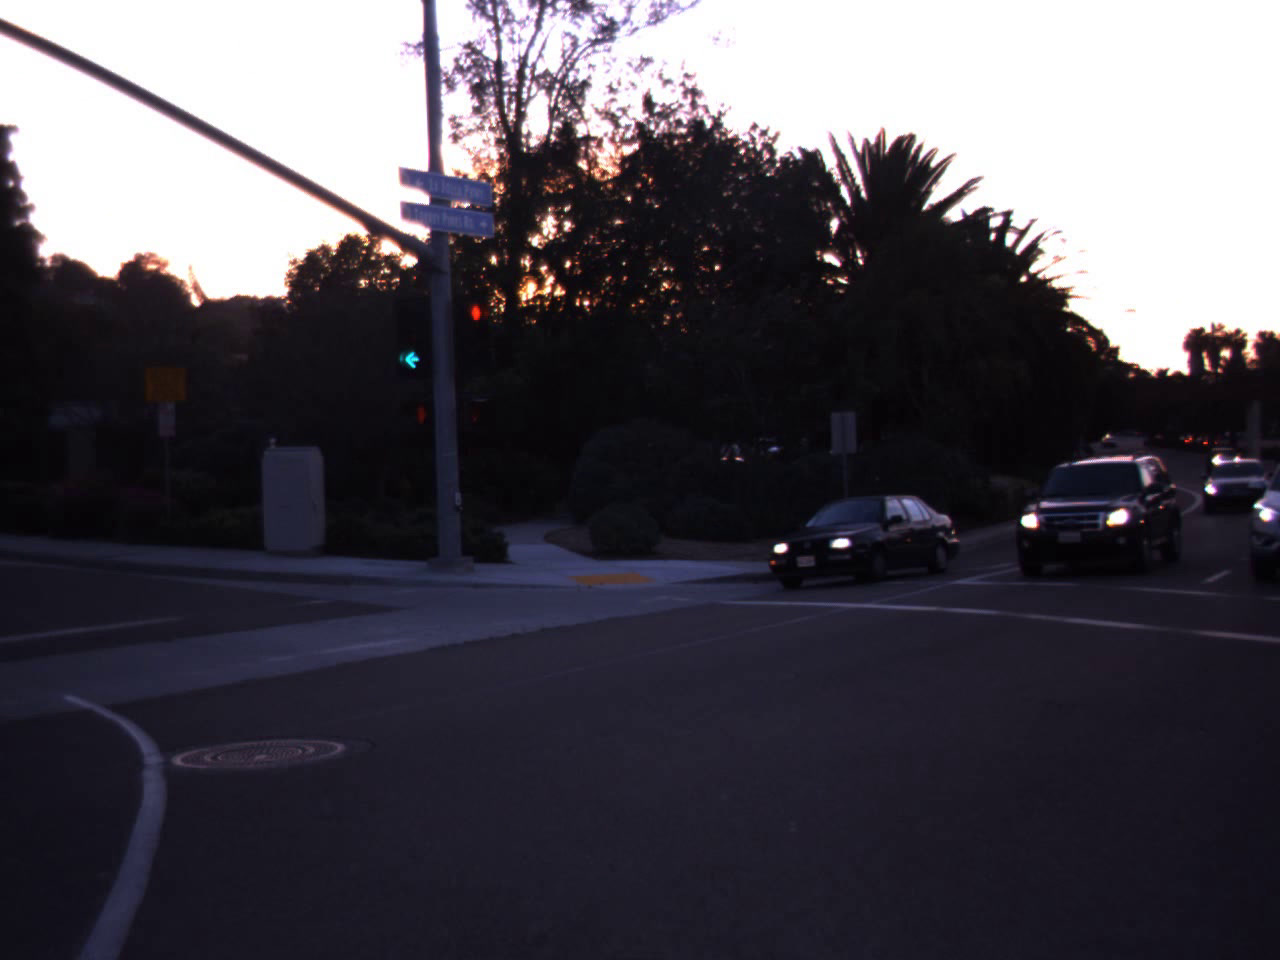go: (381, 287, 441, 377)
